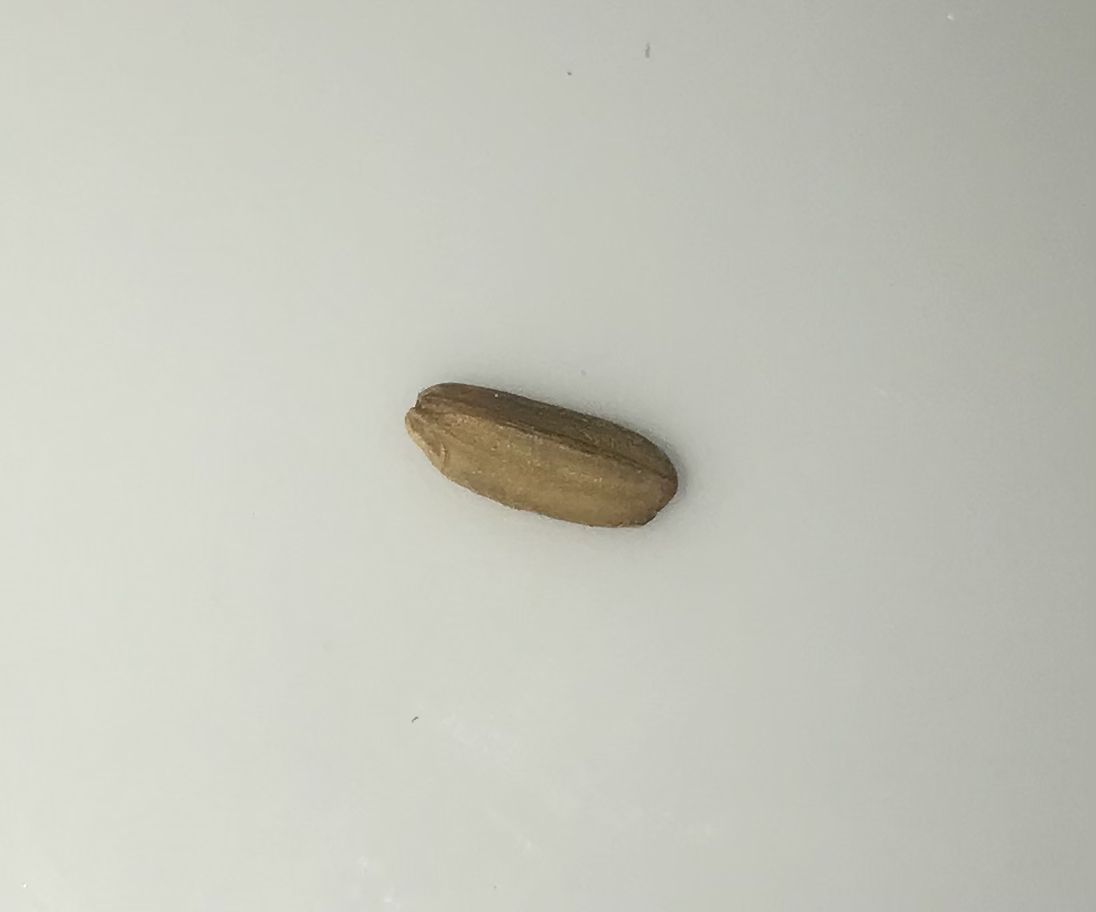Gao Lut Dien Bien: (395, 364, 705, 538)
